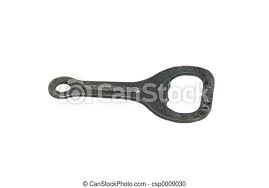bottleopener: (49, 66, 216, 123)
